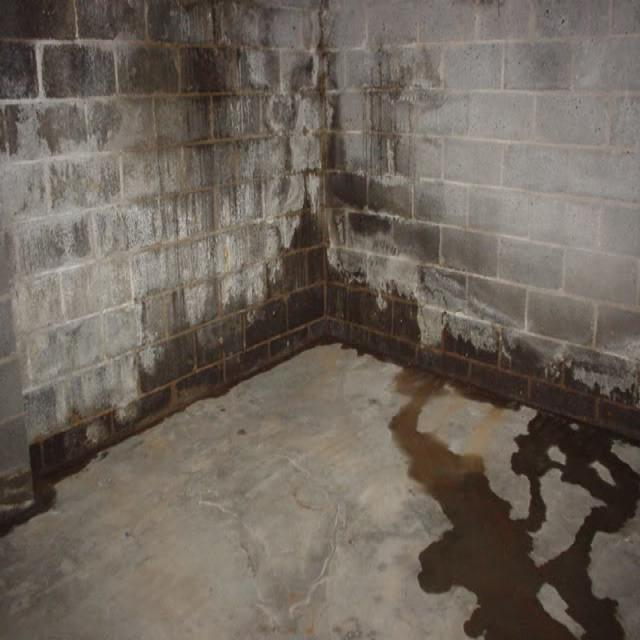Water_Leakage: (10, 159, 639, 573)
